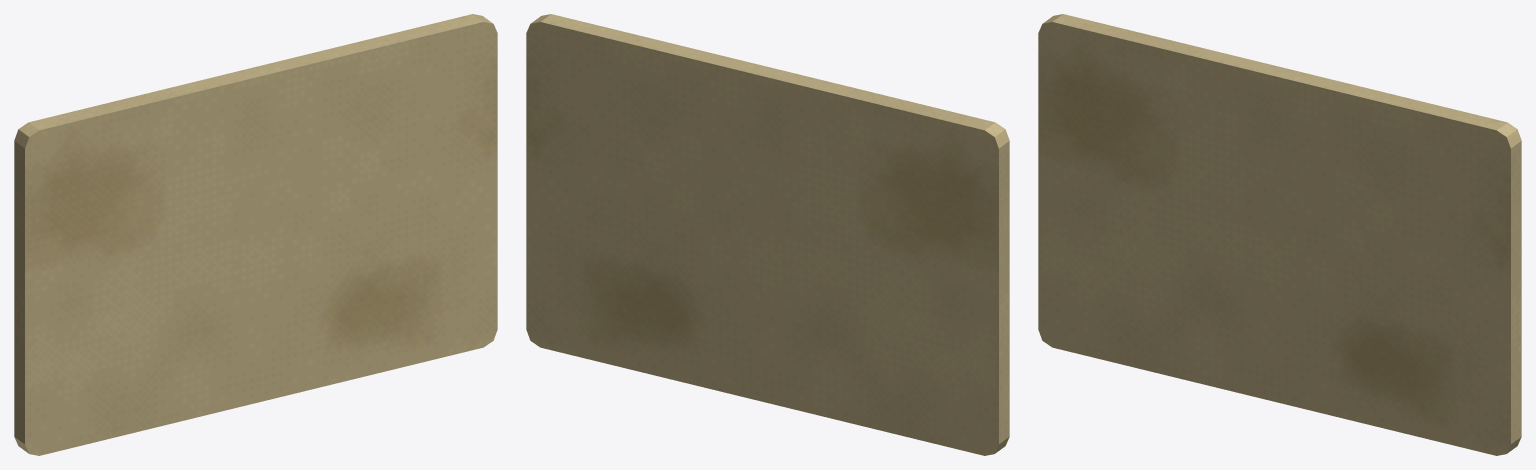
The model's file is Envelope.fbx.
3 renders of one model, left to right at view 1: azimuth 30°, elevation 25°; view 2: azimuth 150°, elevation 25°; view 3: azimuth 330°, elevation 25°, orthographic.
Visible parts, largest first — view 1: Envelope; view 2: Envelope; view 3: Envelope.
Part boxes in pixels (bbox=[...]): Envelope: bbox=[14, 14, 497, 455]; Envelope: bbox=[526, 14, 1009, 455]; Envelope: bbox=[1038, 14, 1521, 455].
Bounding box in the file's own units: 0.2504 × 0.1648 × 0.01.
1 material, 1 textured.
